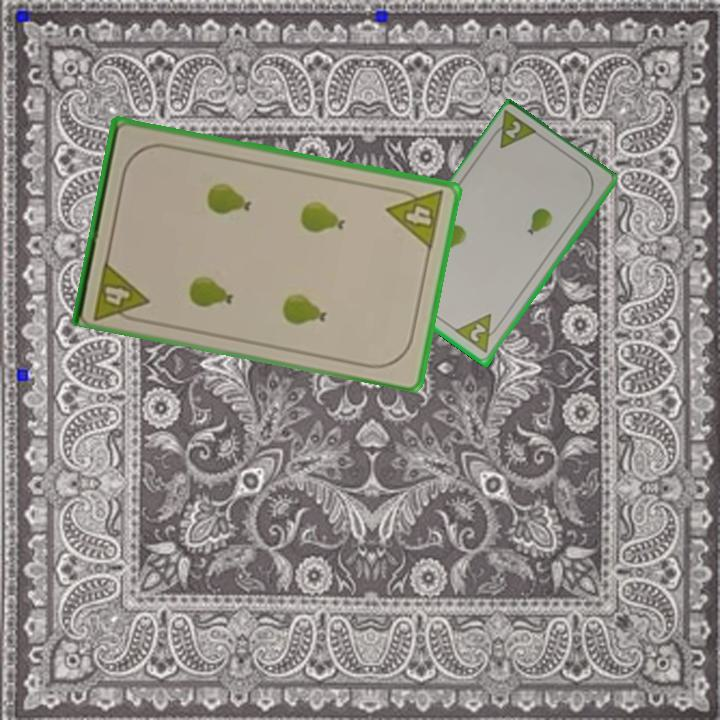2p: (486, 108, 542, 152), (453, 310, 505, 357)
4p: (383, 183, 447, 252), (89, 256, 151, 326)
